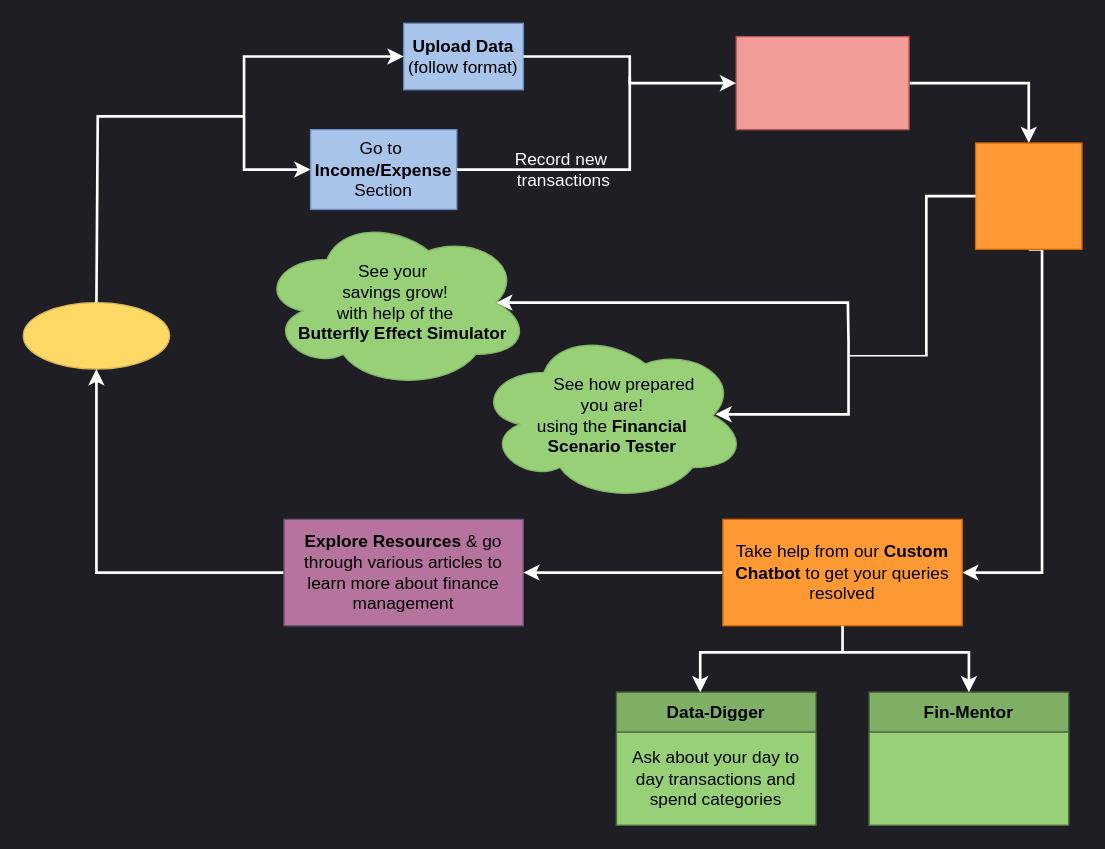
The diagram is 1105 pixels wide and 849 high, and some of its shapes have lost their labels. The centre of each missing label's shape, as x and y in pixels:
"Check out Overview section for financial snapshot" goes at point (822, 82).
"Navigate to Financial Foresight Section" goes at point (1028, 195).
"Query about different financial topics or seek advice on money matters" goes at point (968, 778).
"Sign In / Sign Out" goes at point (96, 335).
